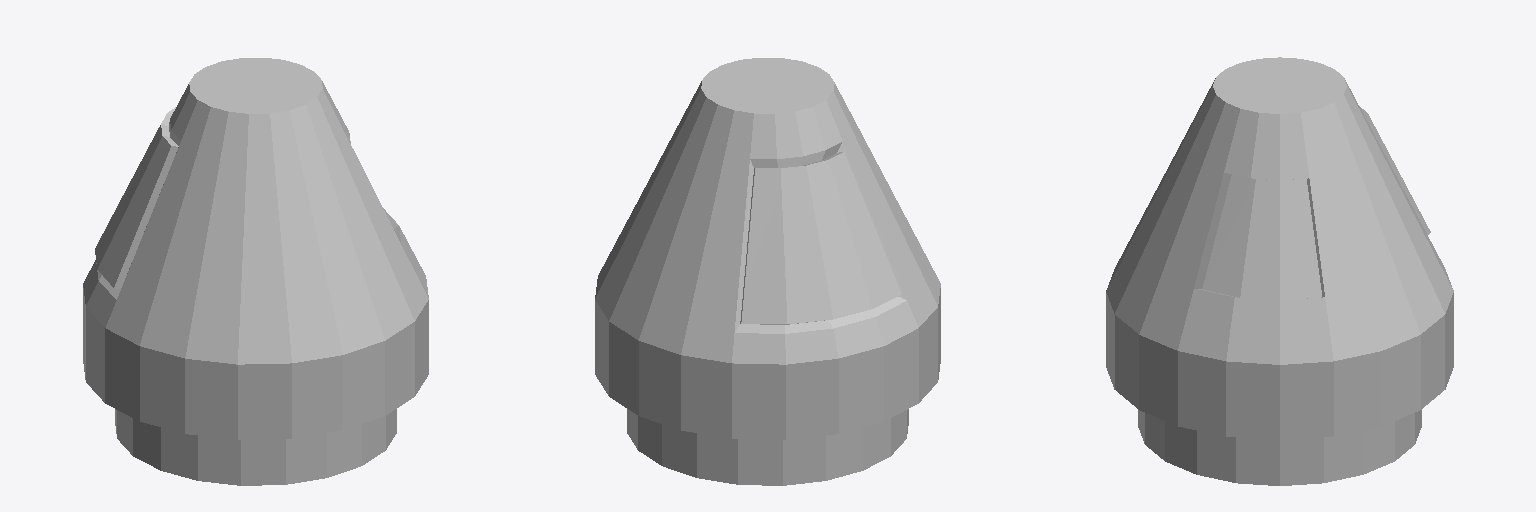
File: command.obj
The picture shows the model from 3 angles: view 1: azimuth 30°, elevation 25°; view 2: azimuth 150°, elevation 25°; view 3: azimuth 270°, elevation 25°; orthographic projection.
Visible parts, largest first — view 1: pCylinder1; view 2: pCylinder1; view 3: pCylinder1.
Boxes of the visible parts, box(x1,y1,x2,y2) form: pCylinder1: box(83, 58, 428, 485); pCylinder1: box(595, 58, 940, 485); pCylinder1: box(1106, 57, 1453, 485).
Bounding box in the file's own units: 10.5 × 11.34 × 10.5.